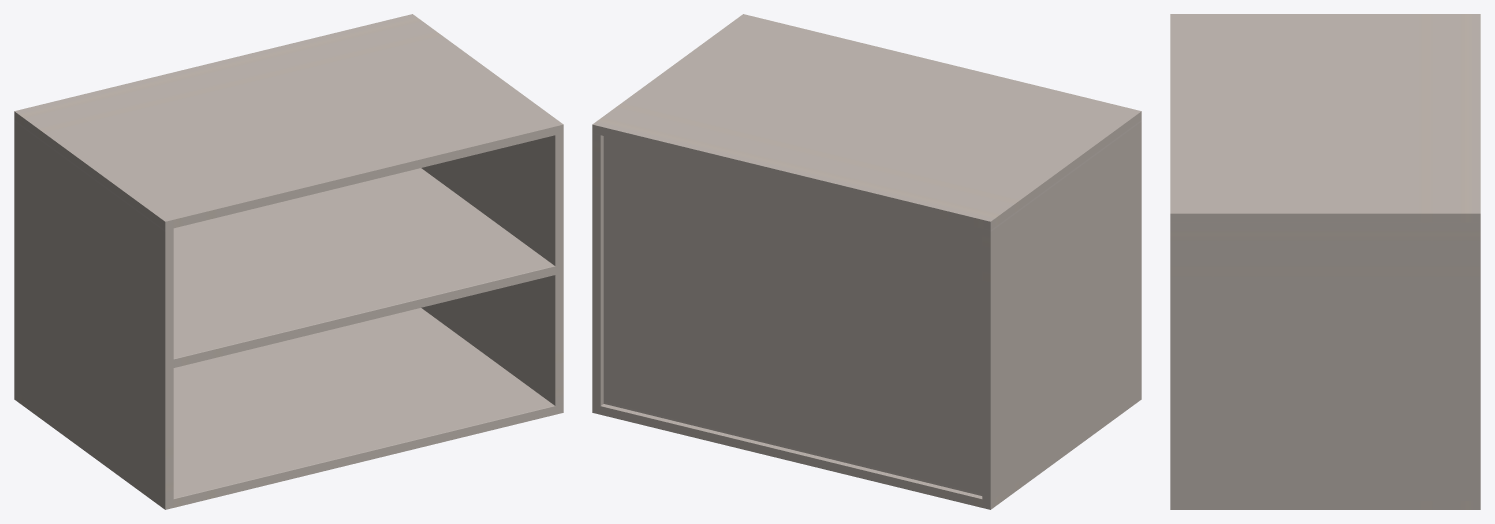
3 views of the same model, side by side, from view 1: azimuth 30°, elevation 25°; view 2: azimuth 150°, elevation 25°; view 3: azimuth 270°, elevation 25° (orthographic). The views are drawn at different scales.
Visible parts, largest first — view 1: Object_81.001; view 2: Object_81.001; view 3: Object_81.001.
Boxes of the visible parts, left/top/right/bottom form: Object_81.001: left=14, top=14, right=563, bottom=509; Object_81.001: left=592, top=14, right=1141, bottom=509; Object_81.001: left=1170, top=14, right=1480, bottom=509.
Bounding box in the file's own units: 0.868 × 0.6 × 0.57.
1 material, 1 textured.
